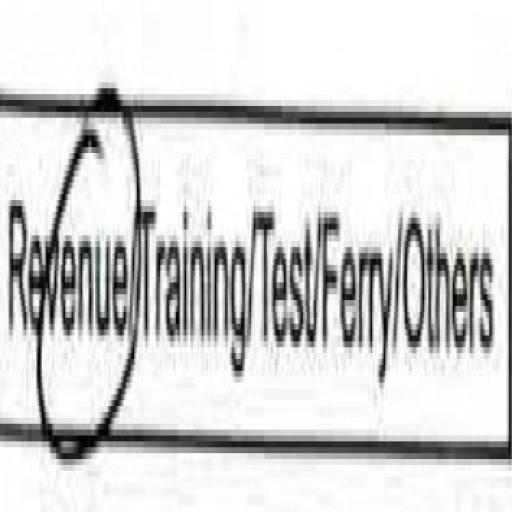check: (0, 26, 137, 512)
